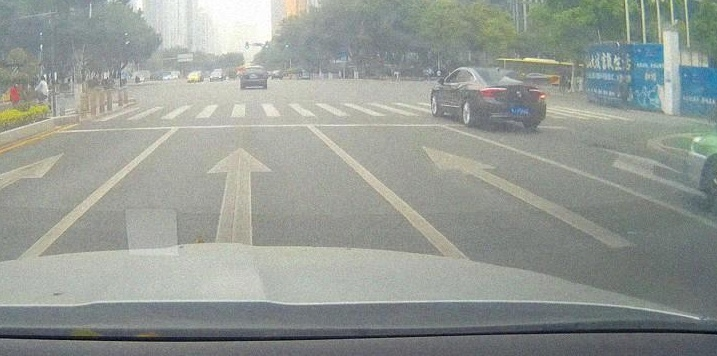L_light: (478, 87, 506, 97)
R_light: (528, 89, 545, 100)
T_light: (493, 71, 505, 75)
day-right: (473, 67, 546, 129)
